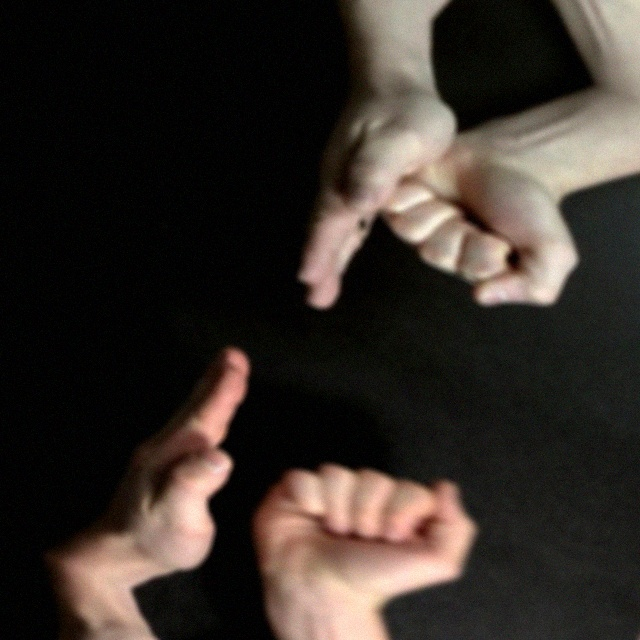Rock: (240, 418, 501, 640), (360, 109, 612, 333)
